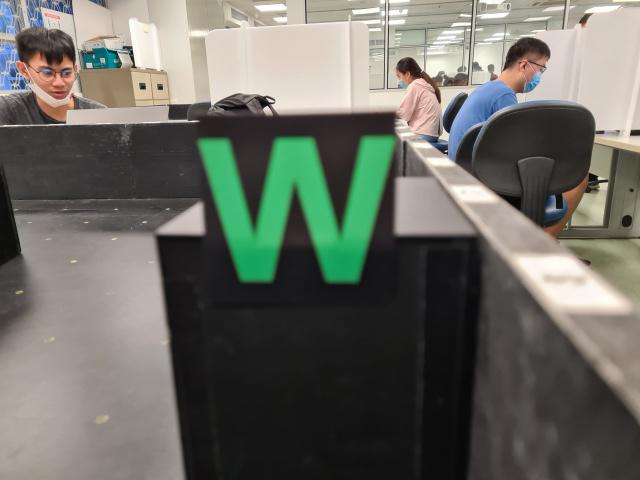alphabet_w: (198, 112, 398, 304)
